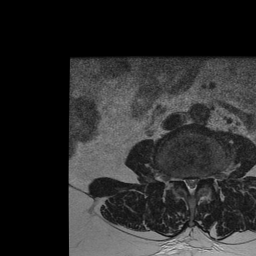CCS_normal: (188, 171, 194, 202)
LFS_severe_stenosis: (201, 167, 208, 189)
LLS_stenosis: (194, 169, 201, 189)
RFS_severe_stenosis: (175, 169, 182, 188)
RLS_severe_stenosis: (182, 170, 188, 191)
